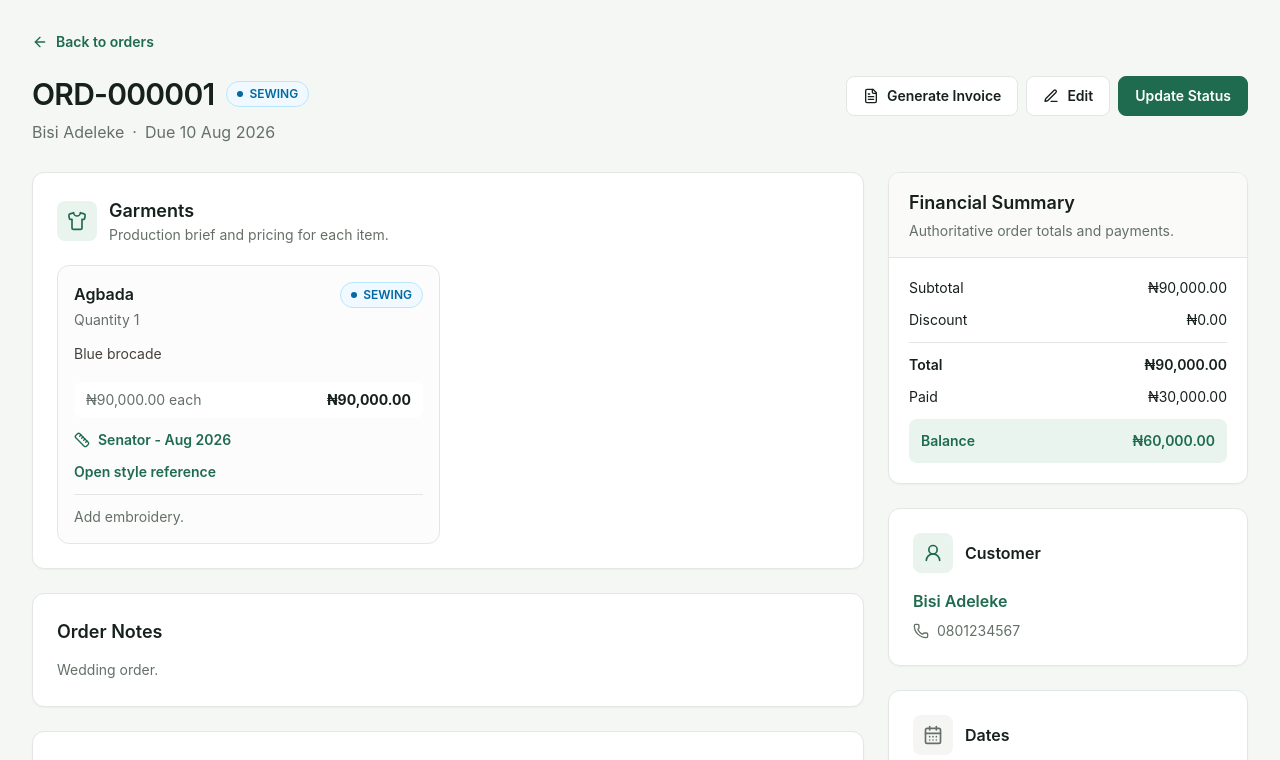
Test: cancel action requires confirmation
This screenshot has width=1280, height=760.
Expected: the heading "ORD-000001" is shown, [32,76,214,112]
Step 1. Click the button "Update Status" → click(1183, 96), box [1118,76,1248,116]
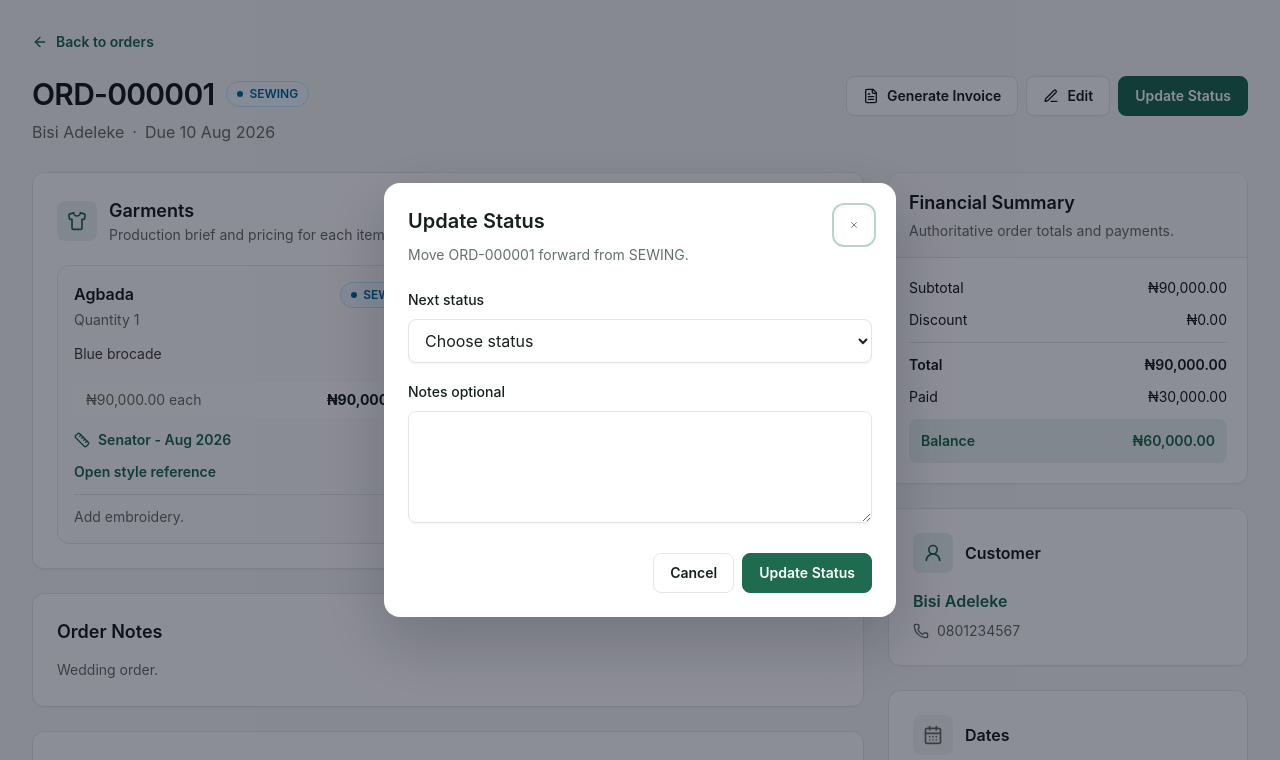
Step 2. Select "CANCELLED" in the dropdown labelled "Next status" → (640, 341), box [408,319,872,363]
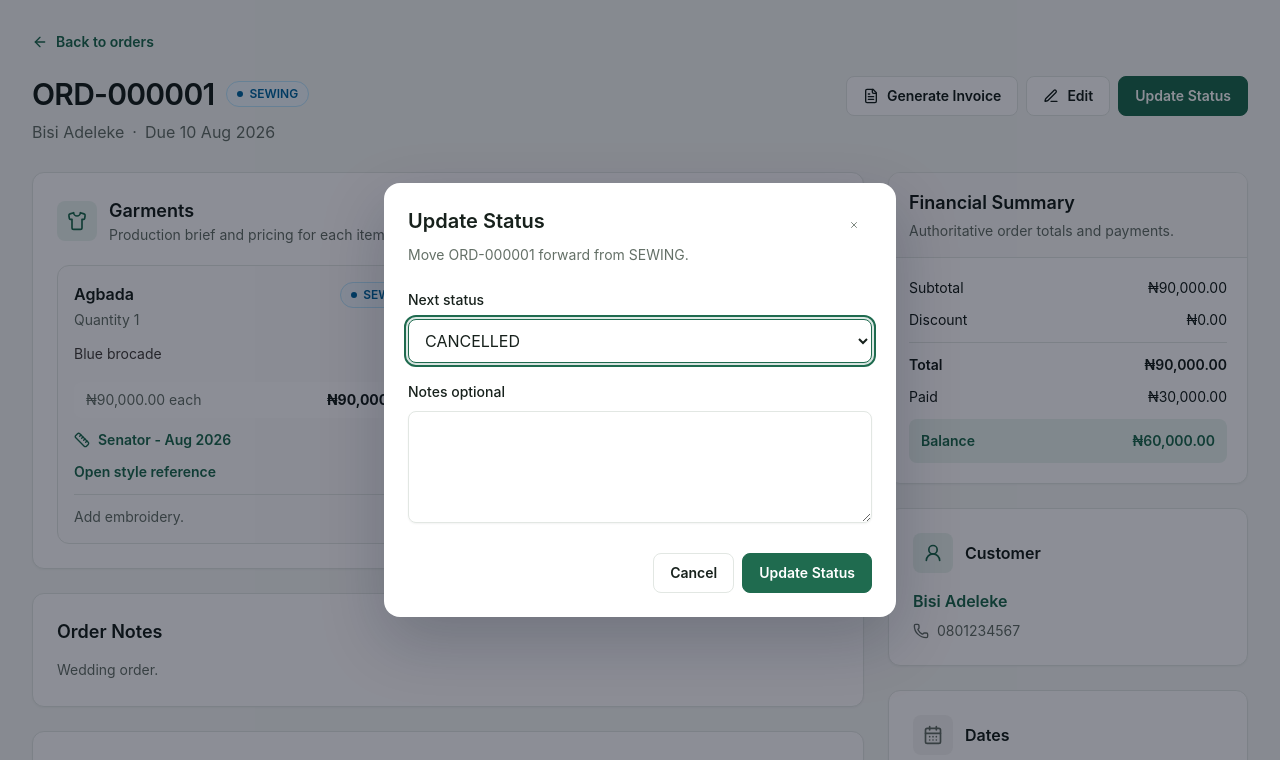
Step 3. Click the button "Update Status" → click(807, 573), box [742,553,872,593]
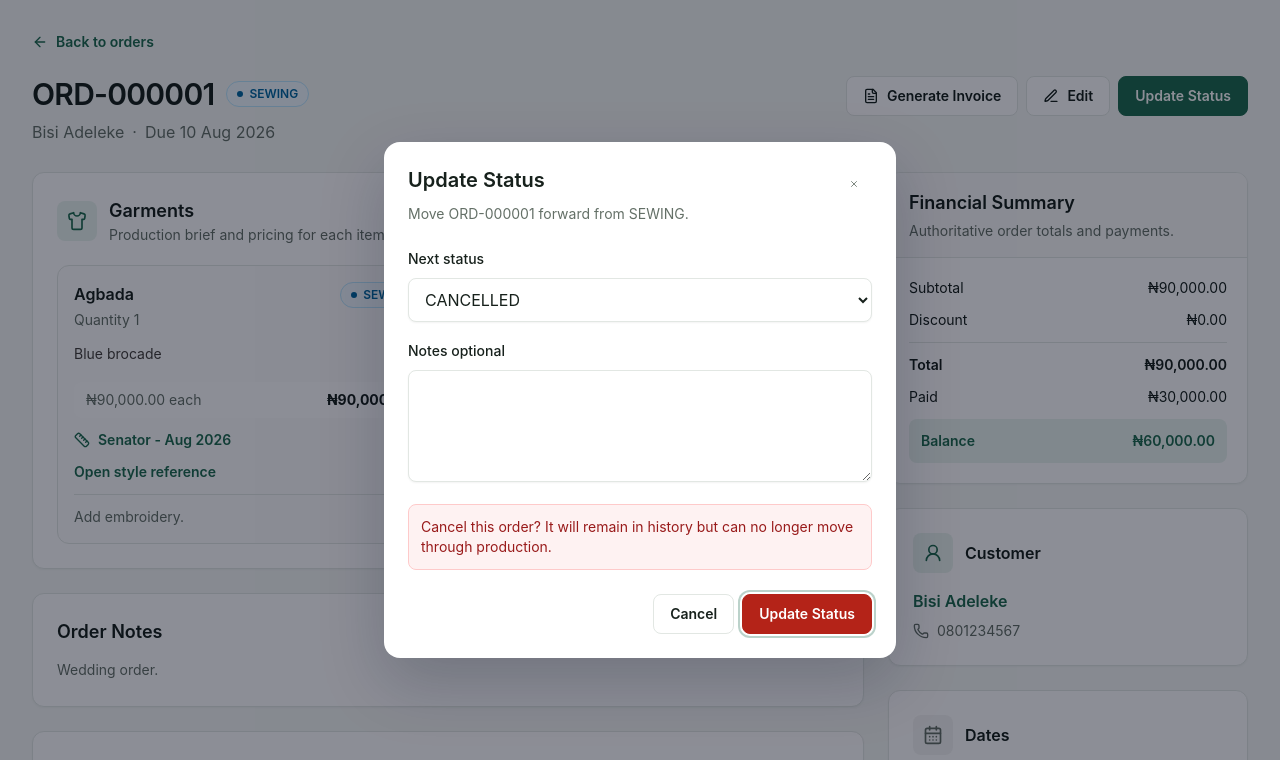
Expected: the text "Cancel this order" is shown, [421,518,853,555]
